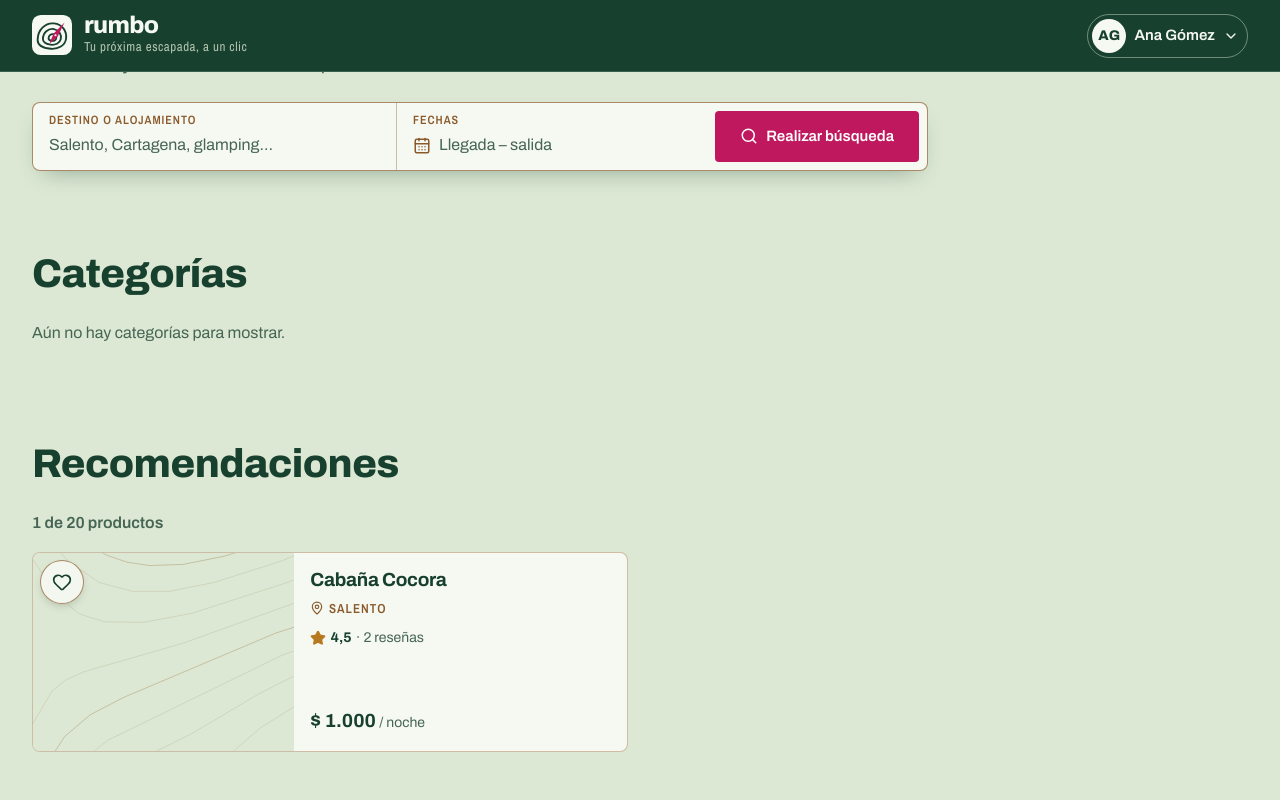
Scenario: Favorites (#24, #25) › toggles with one click and the «Mis favoritos» page follows the shared list
(page scrolled)
Click the button named "Agregar «Cabaña Cocora» a favoritos". click: {"x": 62, "y": 582}
box: [40, 560, 84, 604]
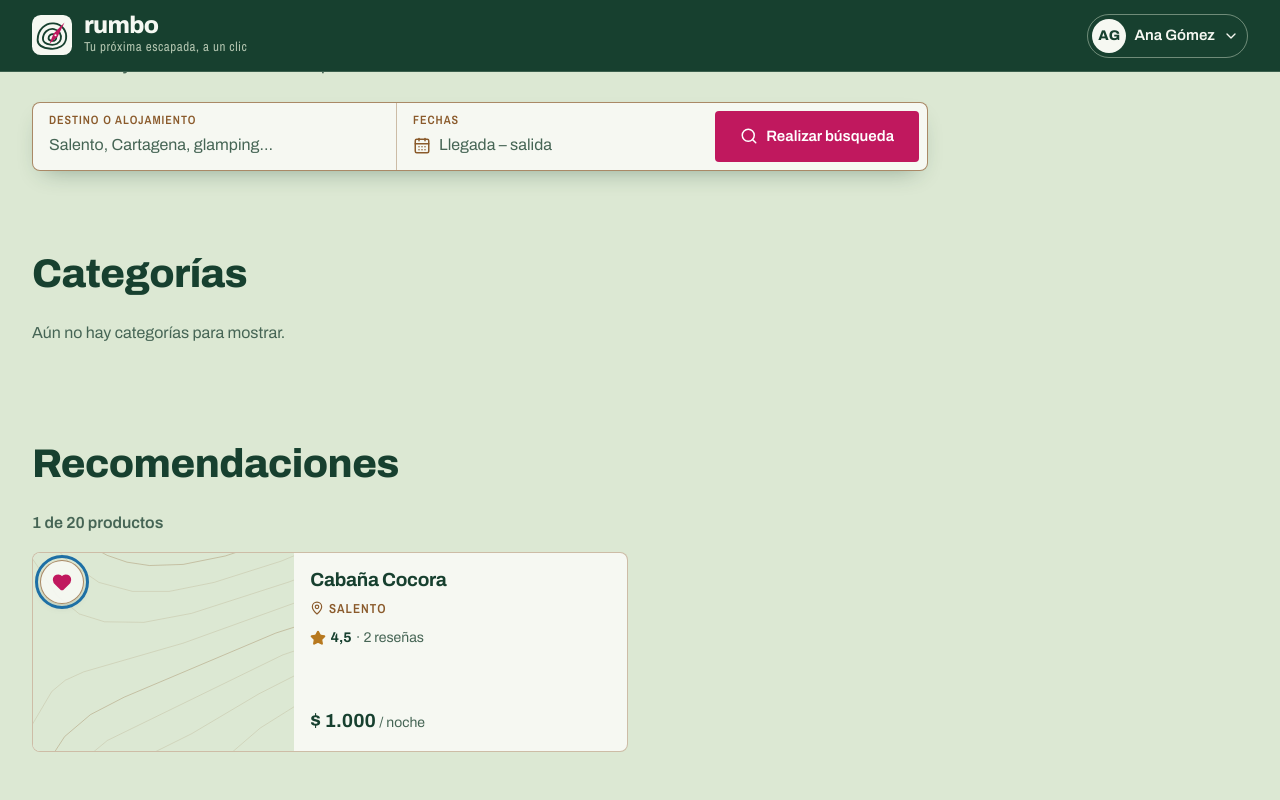
Now the button named "Agregar «Cabaña Cocora» a favoritos" is pressed, box [40, 560, 84, 604]
Click the button "AG Ana Gómez". click: {"x": 1168, "y": 36}
box: [1087, 14, 1248, 58]
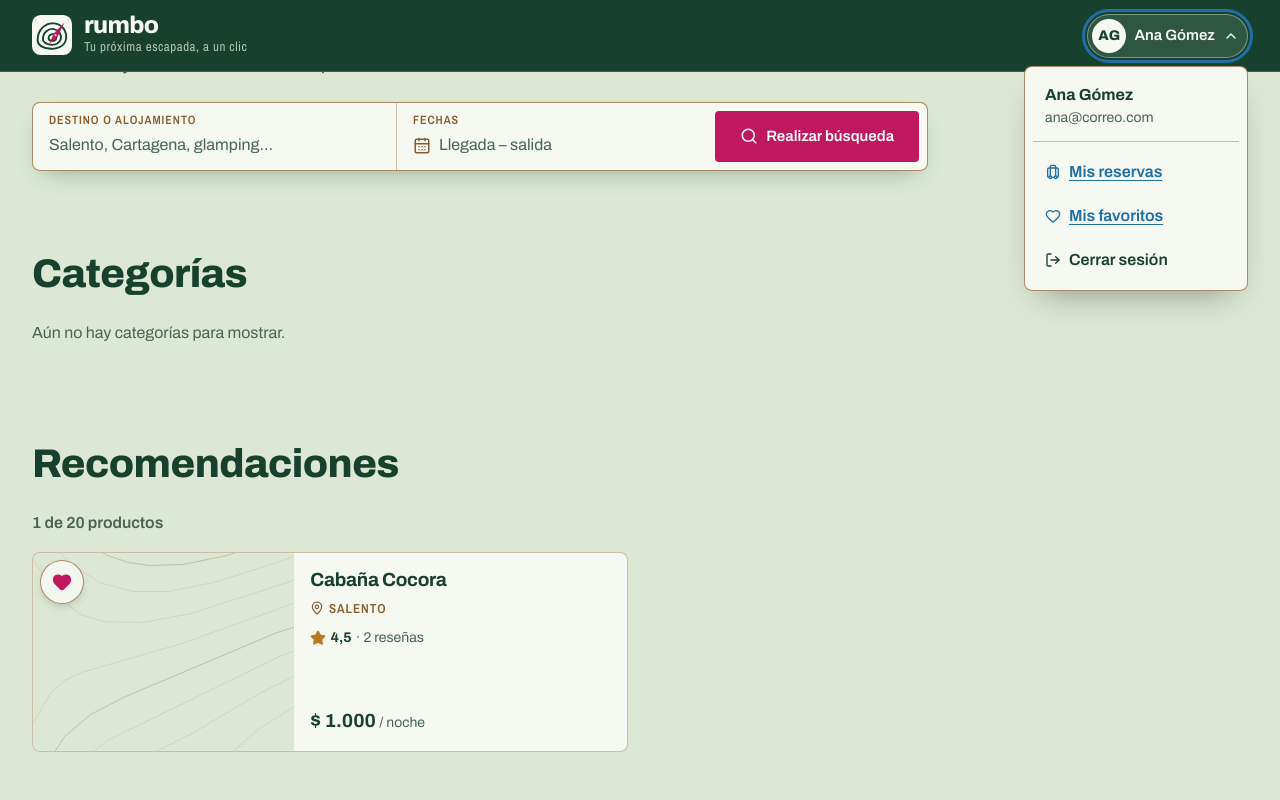
Click the link "Mis favoritos". click: {"x": 1104, "y": 215}
box: [1045, 207, 1163, 224]
(page scrolled)
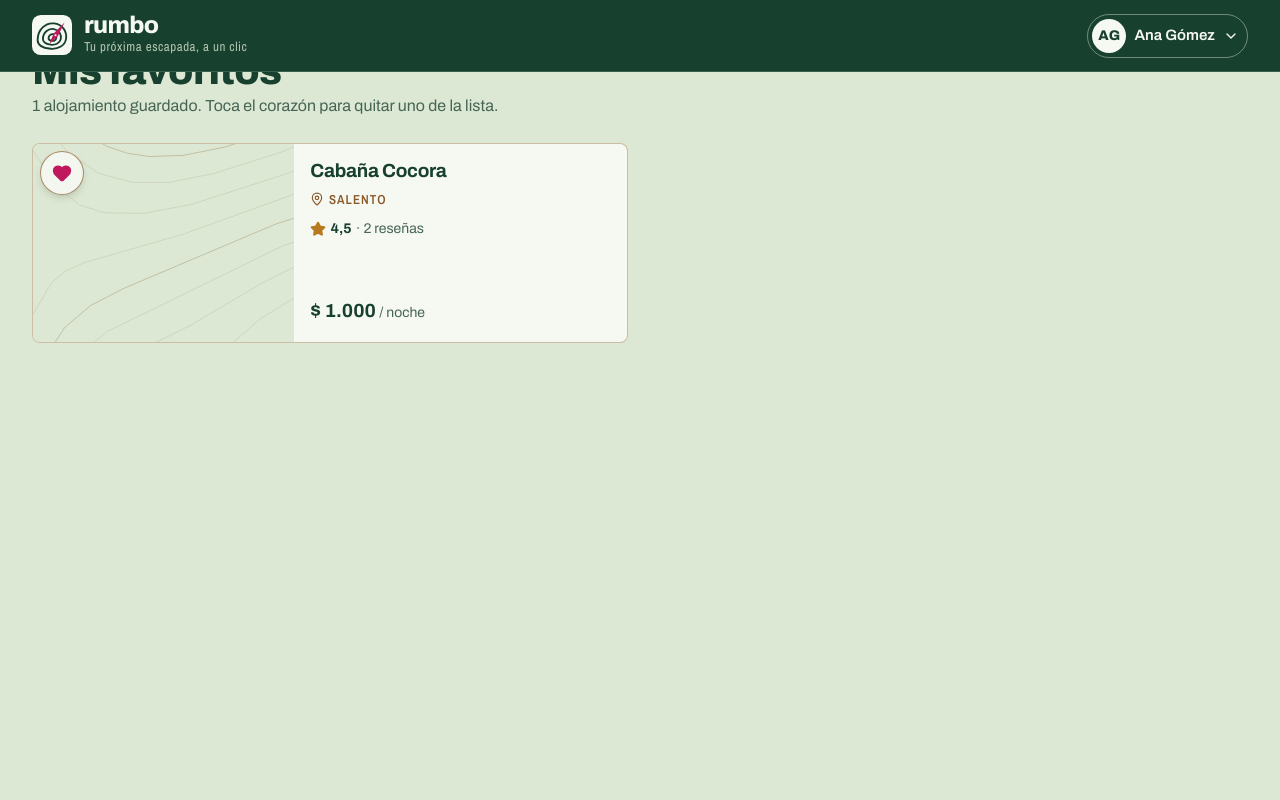
Now the heading "Mis favoritos" is shown, box [32, 49, 282, 92]
Click the button named "Quitar «Cabaña Cocora» de favoritos". click: {"x": 62, "y": 173}
box: [40, 151, 84, 195]
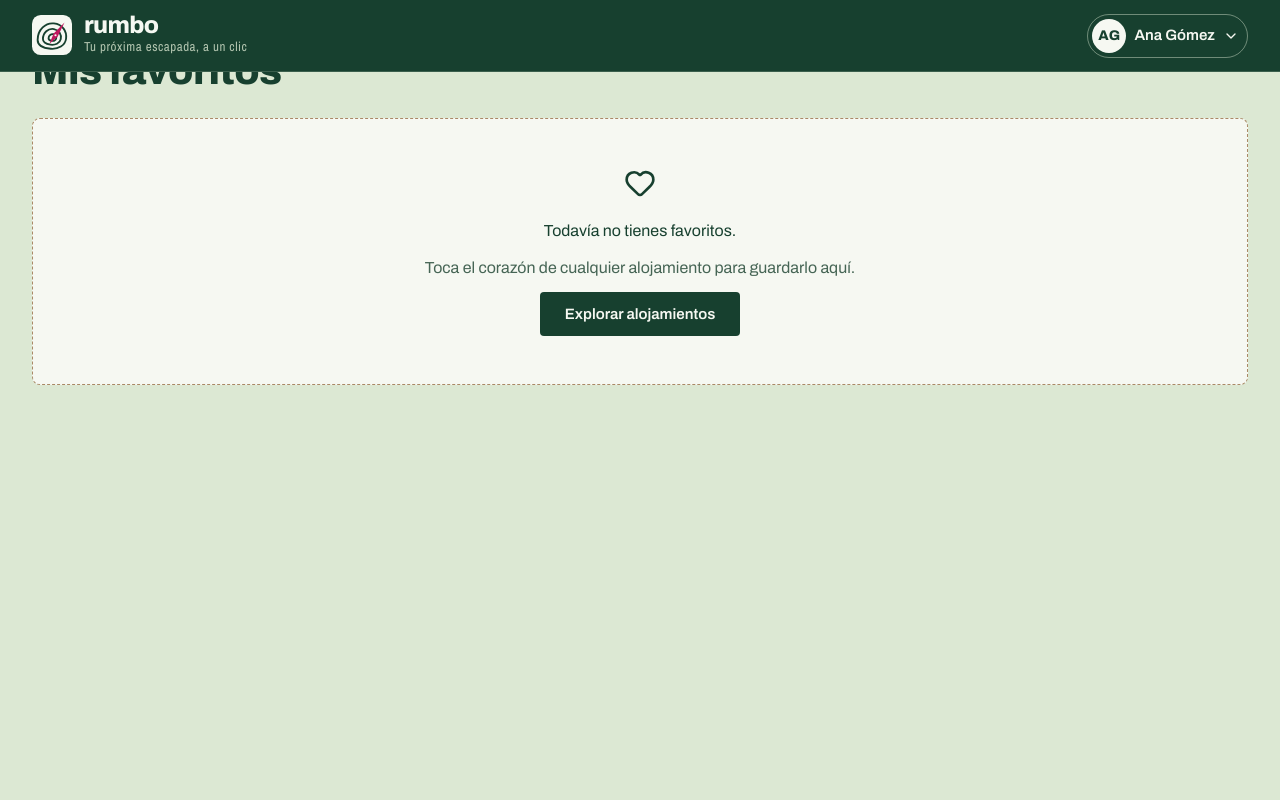
Now the text "Todavía no tienes favoritos." is shown, box [544, 222, 736, 239]
